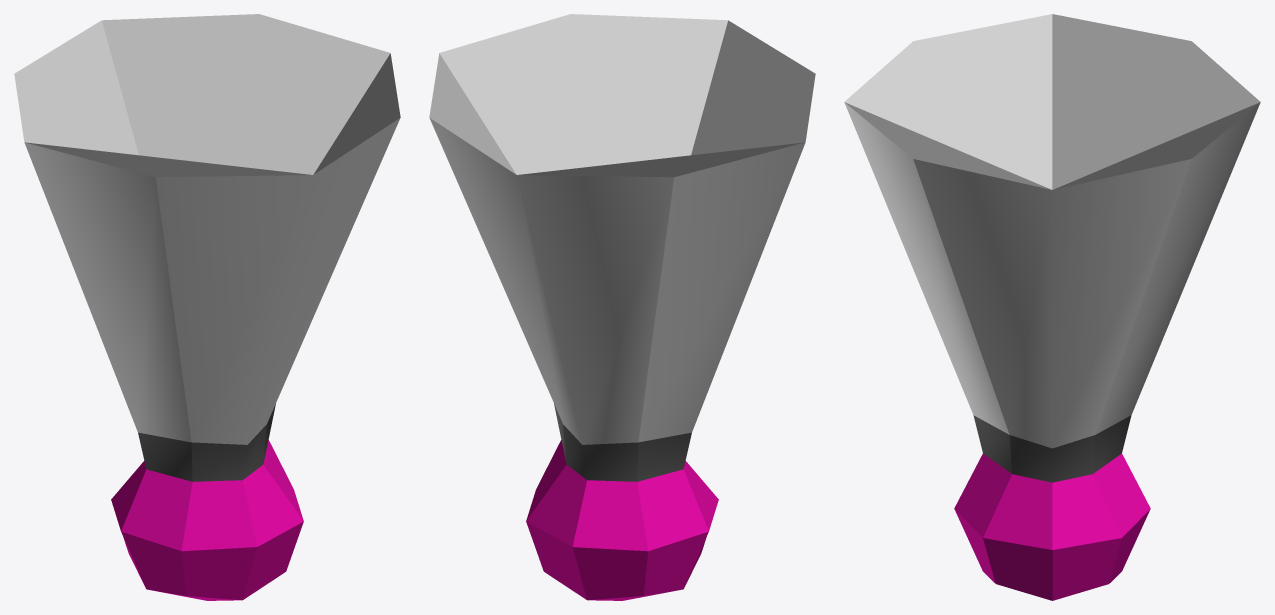
The model's file is ShuttleCock.fbx.
3 views of the same model, side by side, from view 1: azimuth 30°, elevation 25°; view 2: azimuth 150°, elevation 25°; view 3: azimuth 270°, elevation 25° (orthographic).
Visible parts, largest first — view 1: ShuttleCock; view 2: ShuttleCock; view 3: ShuttleCock.
Part boxes in pixels (<box>): ShuttleCock: <box>14,14,400,600</box>; ShuttleCock: <box>429,14,815,600</box>; ShuttleCock: <box>844,14,1260,600</box>.
Bounding box in the file's own units: 1.03 × 1.36 × 1.03.
